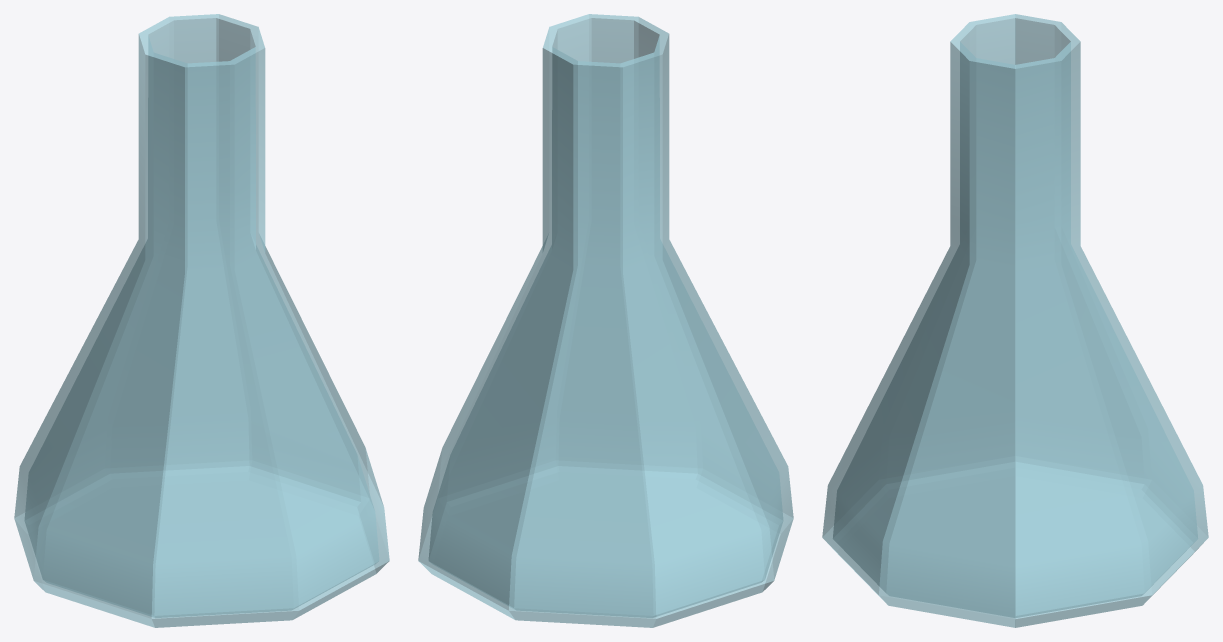
File: Item_flask_idle.FBX
3 renders of one model, left to right at view 1: azimuth 30°, elevation 25°; view 2: azimuth 150°, elevation 25°; view 3: azimuth 270°, elevation 25°, orthographic.
Visible parts, largest first — view 1: Cylinder001; view 2: Cylinder001; view 3: Cylinder001.
Boxes of the visible parts, x1=… form: Cylinder001: x1=14, y1=14, x2=389, y2=627; Cylinder001: x1=418, y1=14, x2=793, y2=627; Cylinder001: x1=822, y1=14, x2=1208, y2=627.
Size of the model in its own units: 13.72 by 20 by 13.72.
